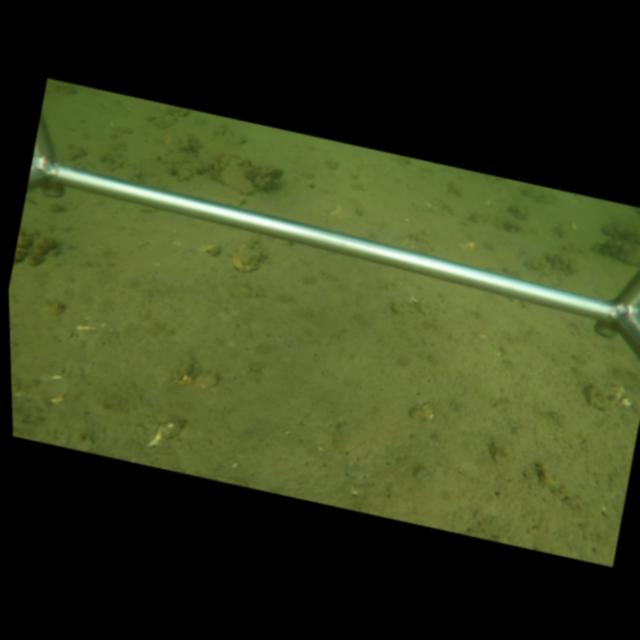Oyster-Closed: (215, 160, 259, 196), (227, 243, 269, 273)
